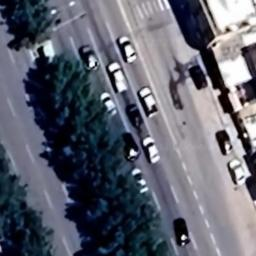pickup: (135, 83, 162, 117)
sedan: (114, 34, 144, 64), (142, 134, 164, 166), (224, 156, 246, 186), (98, 90, 120, 120)
truck: (107, 62, 135, 94)
unknown: (184, 61, 214, 95), (168, 215, 197, 247), (126, 166, 150, 194), (214, 128, 236, 156)
